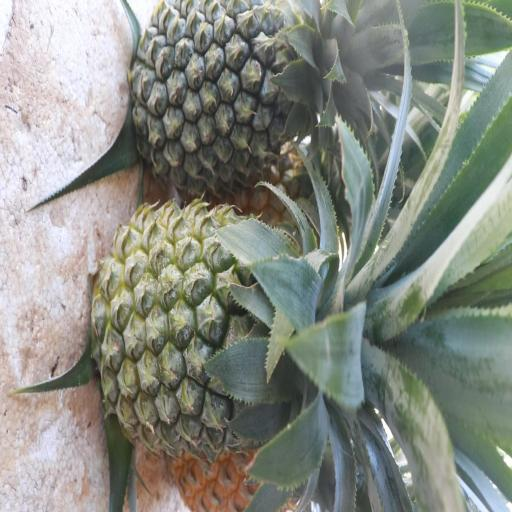------------------------------: (96, 213, 329, 450)
